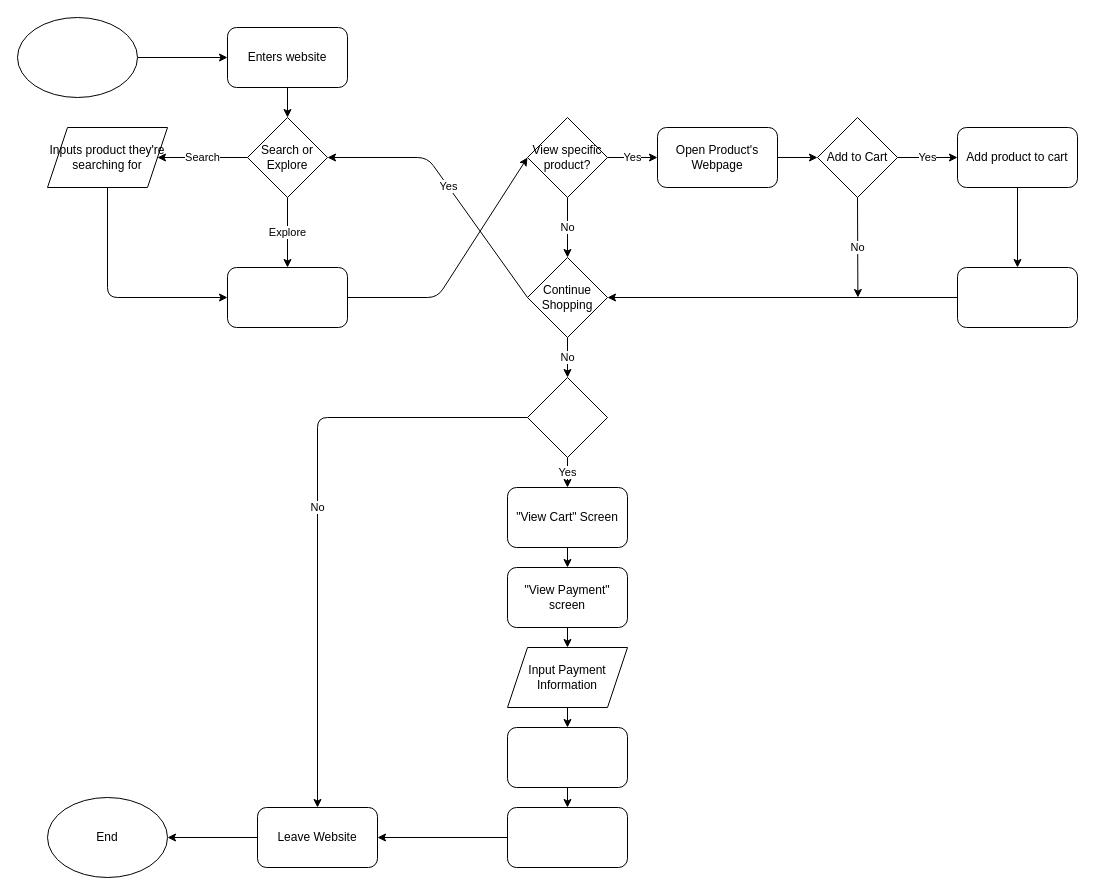
Image size: 1095x895. Some labels were removed from this diagram. Here are the shapes that lost their labels. From the top down, the box of each, then its label:
(16, 16, 138, 98): Start
(226, 266, 348, 328): Looks over Products
(956, 266, 1078, 328): Show "Added to Cart" confirmation
(526, 376, 608, 458): Checkout
(506, 726, 628, 788): Show order confirmation
(506, 806, 628, 868): Receives email
